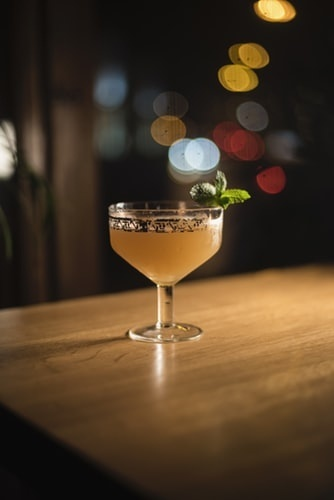whiskey: (114, 192, 217, 354)
